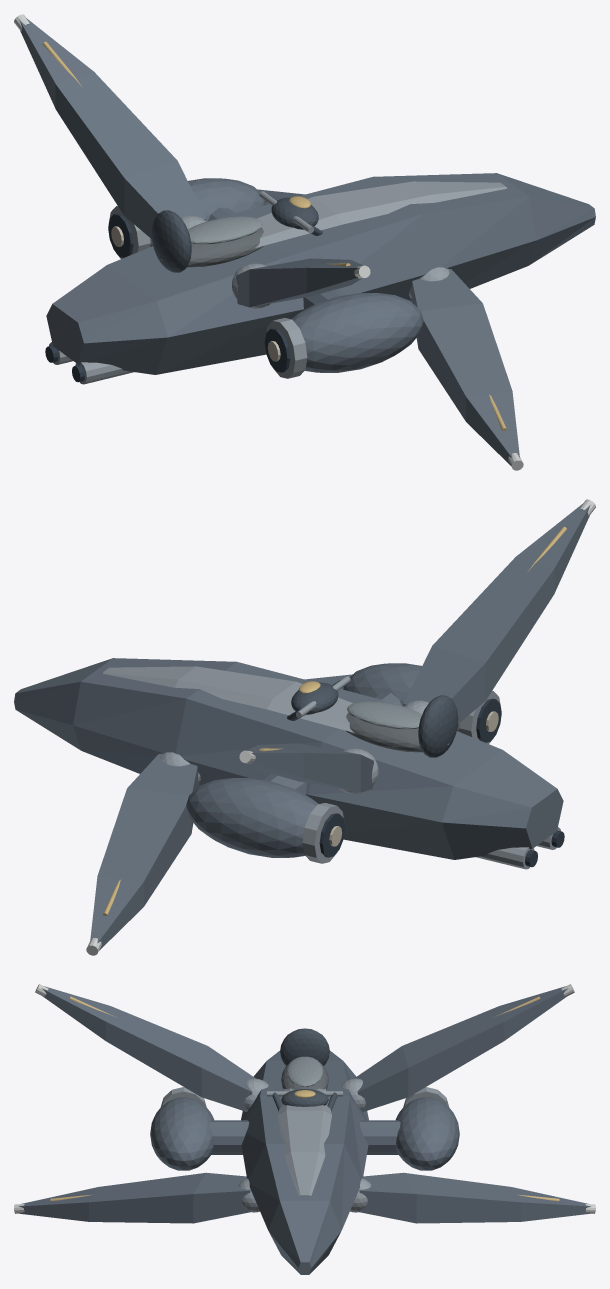
The model's file is busan_pulse_graphite_active.glb.
The picture shows the model from 3 angles, top to bottom: view 1: azimuth 30°, elevation 25°; view 2: azimuth 150°, elevation 25°; view 3: azimuth 270°, elevation 25°; orthographic projection. The views are drawn at different scales.
Visible parts, largest first — view 1: center_hull_0, rear_wings_7, front_wings_10, side_turbine_housing_12, central_panel_1, seat_back_3, turbine_rim_13, saddle_pad_18, saddle_2, turbine_dark_inner_14, instrument_cluster_19, wing_hinges_6 (+1 smaller); view 2: center_hull_0, rear_wings_7, front_wings_10, side_turbine_housing_12, central_panel_1, seat_back_3, turbine_rim_13, saddle_pad_18, saddle_2, turbine_dark_inner_14, instrument_cluster_19, wing_hinges_6 (+1 smaller); view 3: front_wings_10, rear_wings_7, center_hull_0, side_turbine_housing_12, central_panel_1, pod_arm_11, wing_hinges_6, seat_back_3, saddle_pad_18, turbine_rim_13, instrument_cluster_19, saddle_2 (+2 smaller).
Boxes of the visible parts, x1,y1,x2,y2 form: center_hull_0: [46, 173, 595, 374]; rear_wings_7: [19, 18, 363, 307]; front_wings_10: [257, 189, 519, 465]; side_turbine_housing_12: [150, 178, 423, 372]; central_panel_1: [255, 181, 506, 247]; seat_back_3: [151, 210, 191, 272]; turbine_rim_13: [108, 206, 307, 378]; saddle_pad_18: [188, 216, 262, 244]; saddle_2: [160, 227, 264, 267]; turbine_dark_inner_14: [108, 213, 290, 372]; instrument_cluster_19: [271, 197, 318, 229]; wing_hinges_6: [181, 215, 449, 308]; center_hull_0: [14, 658, 563, 859]; rear_wings_7: [246, 503, 590, 792]; front_wings_10: [90, 674, 352, 950]; side_turbine_housing_12: [186, 663, 459, 857]; central_panel_1: [103, 666, 354, 732]; seat_back_3: [418, 695, 458, 757]; turbine_rim_13: [302, 691, 501, 863]; saddle_pad_18: [347, 701, 421, 729]; saddle_2: [345, 712, 449, 752]; turbine_dark_inner_14: [319, 698, 501, 857]; instrument_cluster_19: [291, 682, 338, 714]; wing_hinges_6: [160, 700, 428, 793]; front_wings_10: [19, 1172, 590, 1223]; rear_wings_7: [41, 986, 568, 1111]; center_hull_0: [241, 1050, 368, 1274]; side_turbine_housing_12: [150, 1097, 459, 1170]; central_panel_1: [278, 1088, 331, 1196]; pod_arm_11: [209, 1120, 400, 1154]; wing_hinges_6: [238, 1078, 371, 1212]; seat_back_3: [280, 1028, 329, 1065]; saddle_pad_18: [286, 1056, 323, 1086]; turbine_rim_13: [161, 1087, 448, 1107]; instrument_cluster_19: [281, 1089, 328, 1106]; saddle_2: [281, 1062, 328, 1089].
Bounding box in the file's own units: 4.37 × 1.8 × 5.37.
